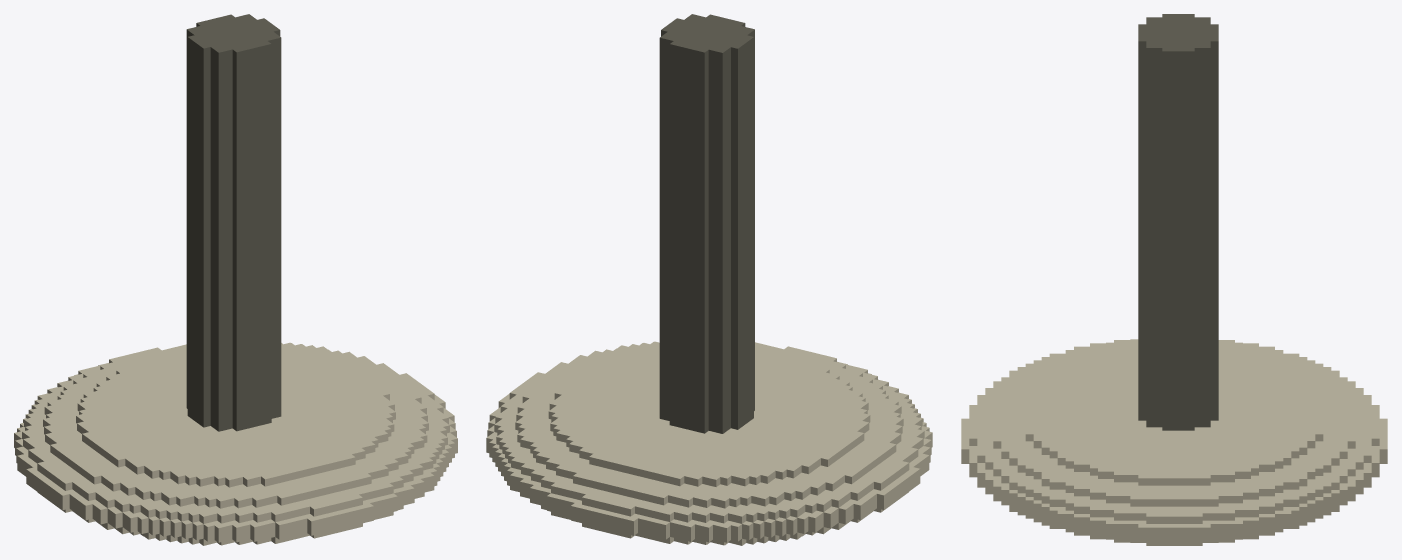
File: factory4.1+-1.obj
The picture shows the model from 3 angles, left to right: view 1: azimuth 30°, elevation 25°; view 2: azimuth 150°, elevation 25°; view 3: azimuth 270°, elevation 25°; orthographic projection.
Size of the model in its own units: 5.5 by 5.9 by 5.3.
1 material, 1 textured.
